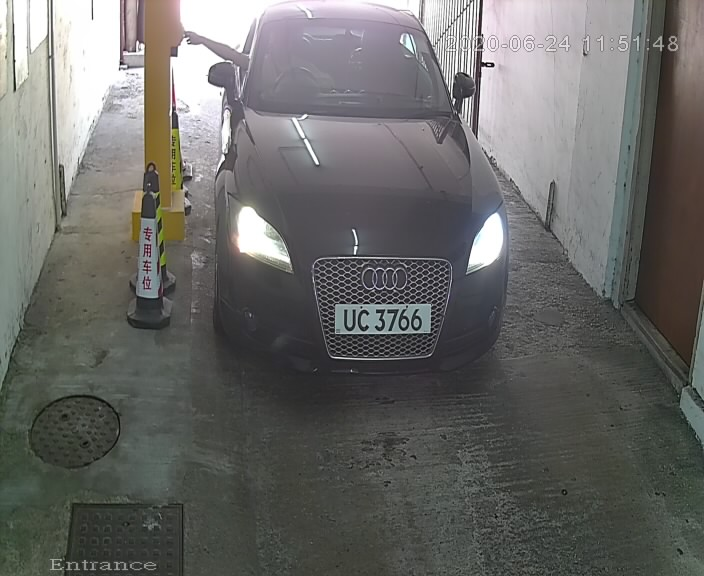Car: (200, 1, 526, 399)
License Plate: (329, 295, 436, 341)
